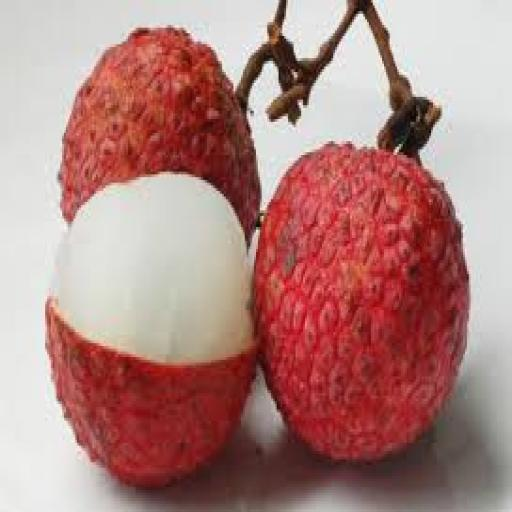lychee: (255, 144, 468, 459), (46, 172, 255, 487), (61, 28, 259, 240)
